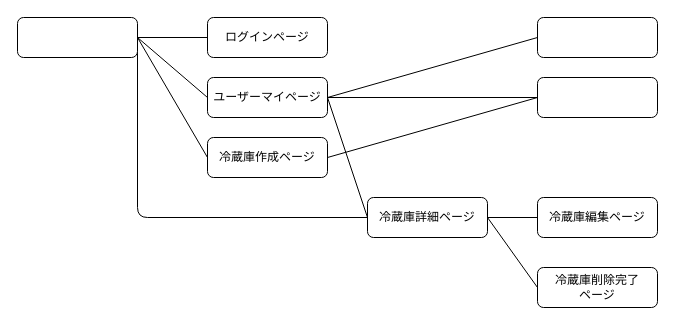
The diagram is 675 pixels wide and 325 high, and some of its shapes have lost their labels. Each missing label, with the centre of its shape:
"トップページ" goes at pixel 77 37.
"献立提案ページ" goes at pixel 597 37.
"食材登録ページ" goes at pixel 597 97.
